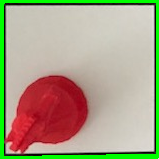Red Knight: (5, 71, 91, 152)
